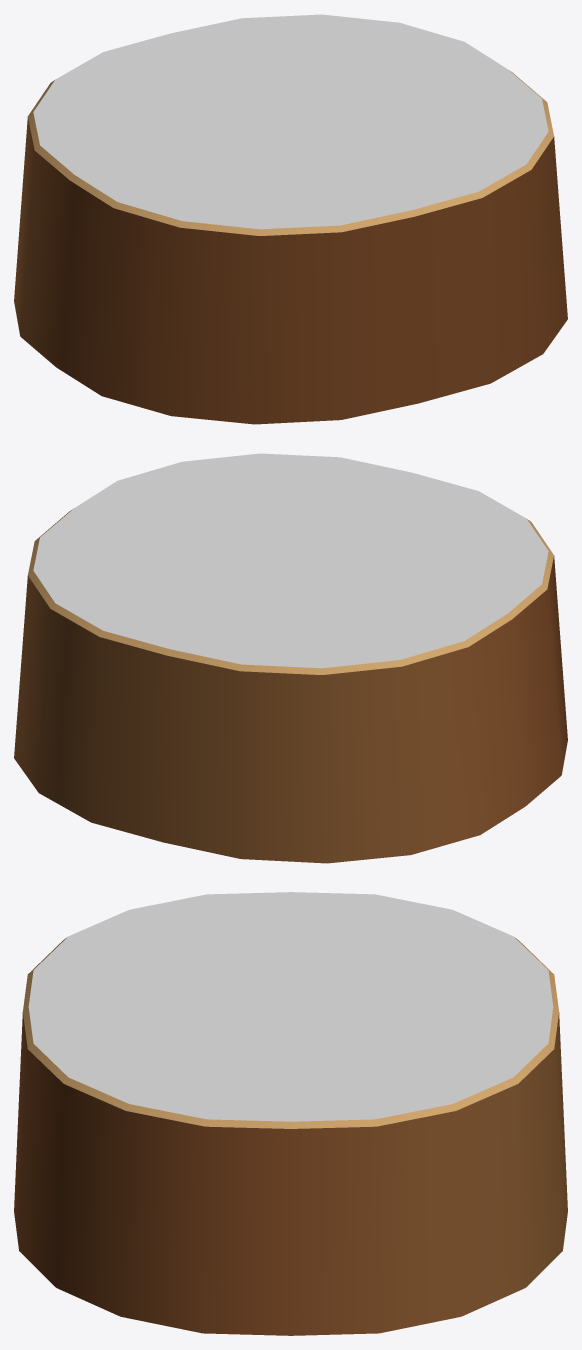
File: DescendantsTwoDisneyStoreSign.fbx
The picture shows the model from 3 angles, top to bottom: view 1: azimuth 30°, elevation 25°; view 2: azimuth 150°, elevation 25°; view 3: azimuth 270°, elevation 25°; orthographic projection. The views are drawn at different scales.
Parts seen in each view (by area): view 1: DescendantsTwoDisneyStoreSign; view 2: DescendantsTwoDisneyStoreSign; view 3: DescendantsTwoDisneyStoreSign.
Part boxes in pixels (bbox=[...]): DescendantsTwoDisneyStoreSign: bbox=[14, 14, 567, 424]; DescendantsTwoDisneyStoreSign: bbox=[14, 453, 567, 863]; DescendantsTwoDisneyStoreSign: bbox=[14, 892, 567, 1335].
Size of the model in its own units: 220 by 84.21 by 207.
